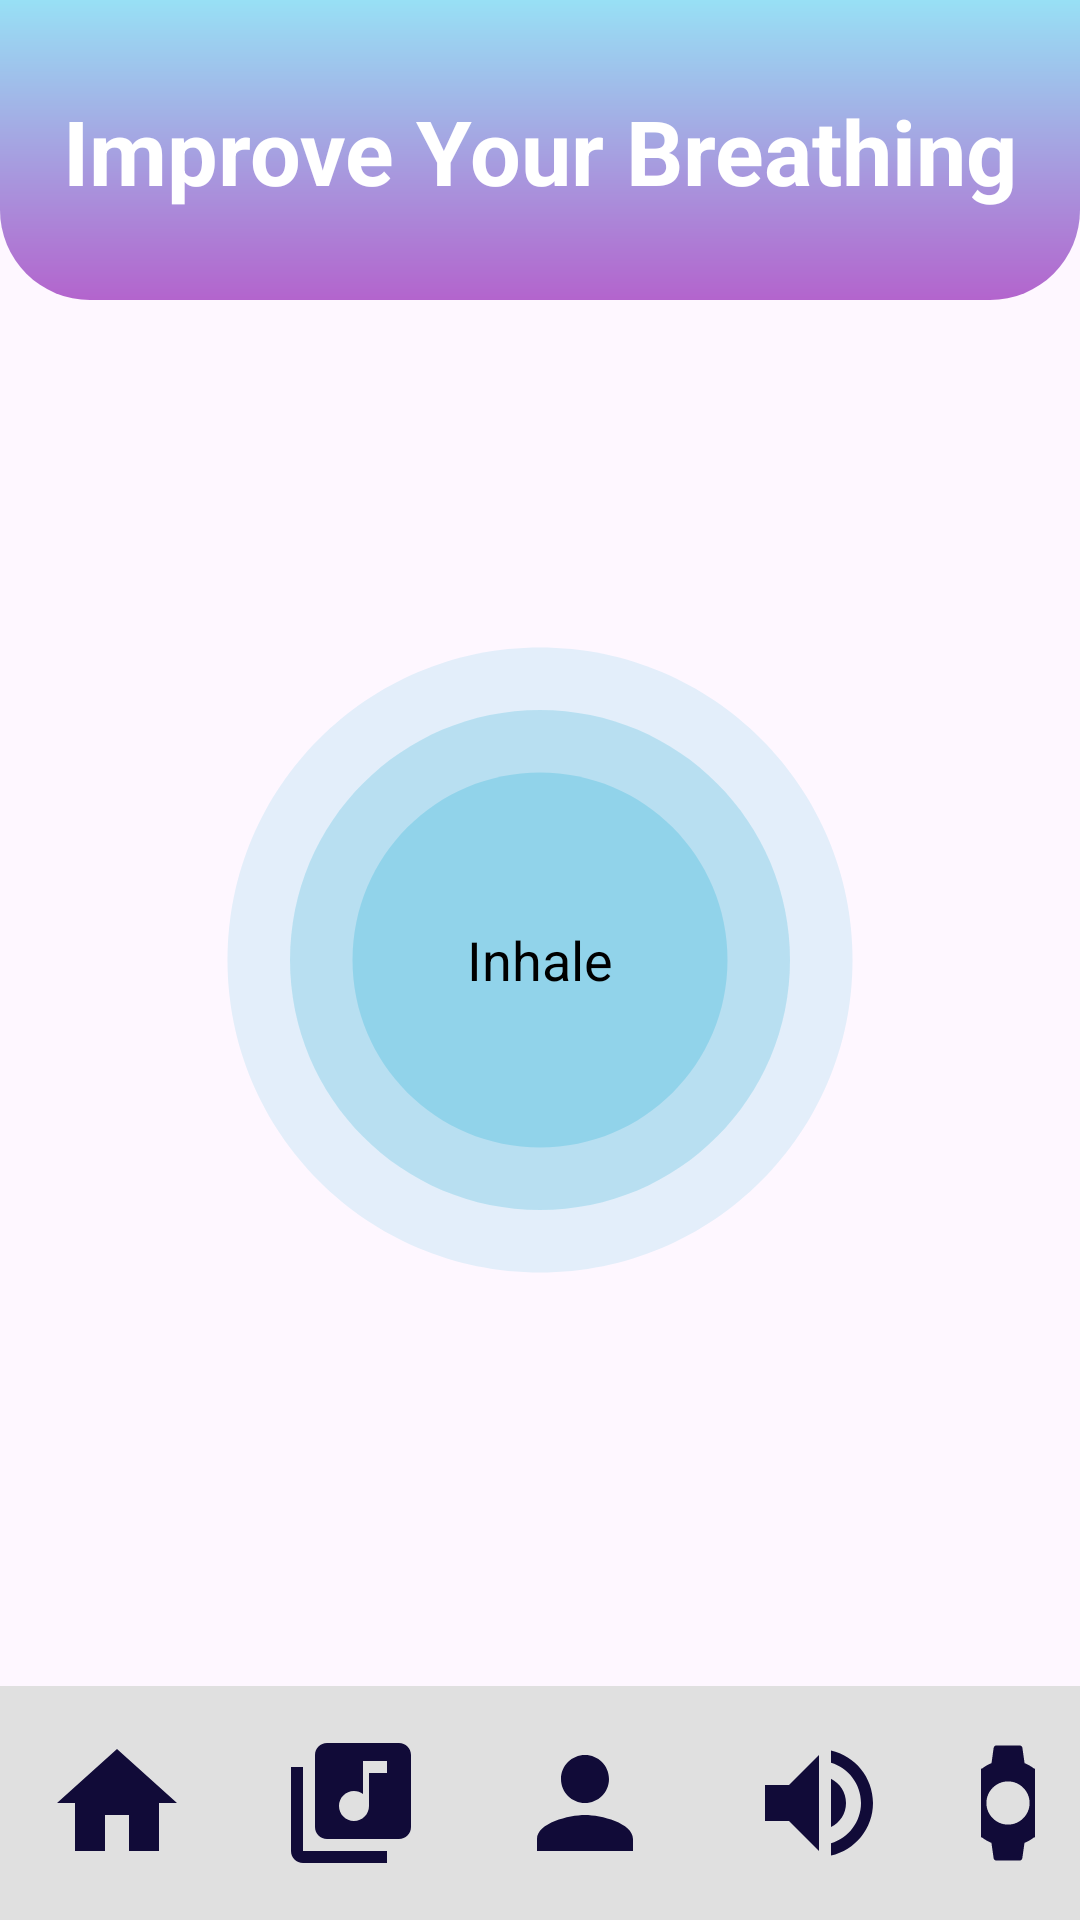

Icon click points for this 1080px x 1920px phone screenshot, format [x,y]:
home: [117,1800]
library music: [351,1803]
person: [585,1803]
volume up: [819,1803]
